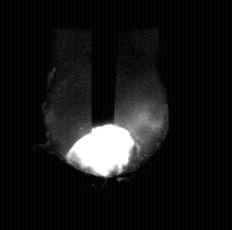arame: (92, 0, 116, 128)
poca: (46, 0, 168, 230)
